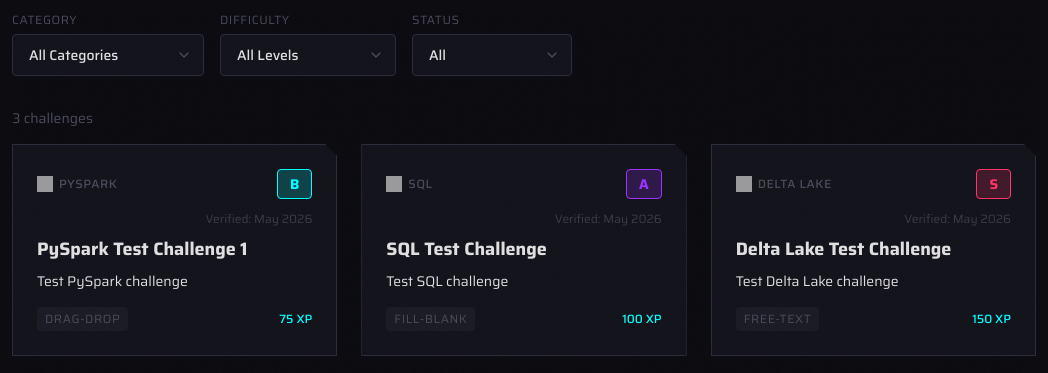
Test case: ChallengeGridClient › category filtering › filters by category when selected
Select "PySpark" in the dropdown labelled "Category" at (108, 55), box [12, 34, 204, 76]
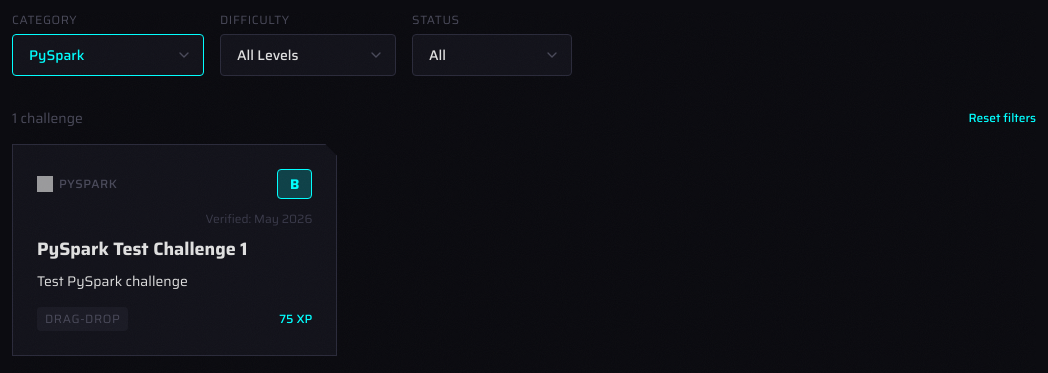
Expected: the heading "PySpark Test Challenge 1" is shown, [37, 235, 248, 263]
Expected: the heading "SQL Test Challenge" is gone
Expected: the heading "Delta Lake Test Challenge" is gone
